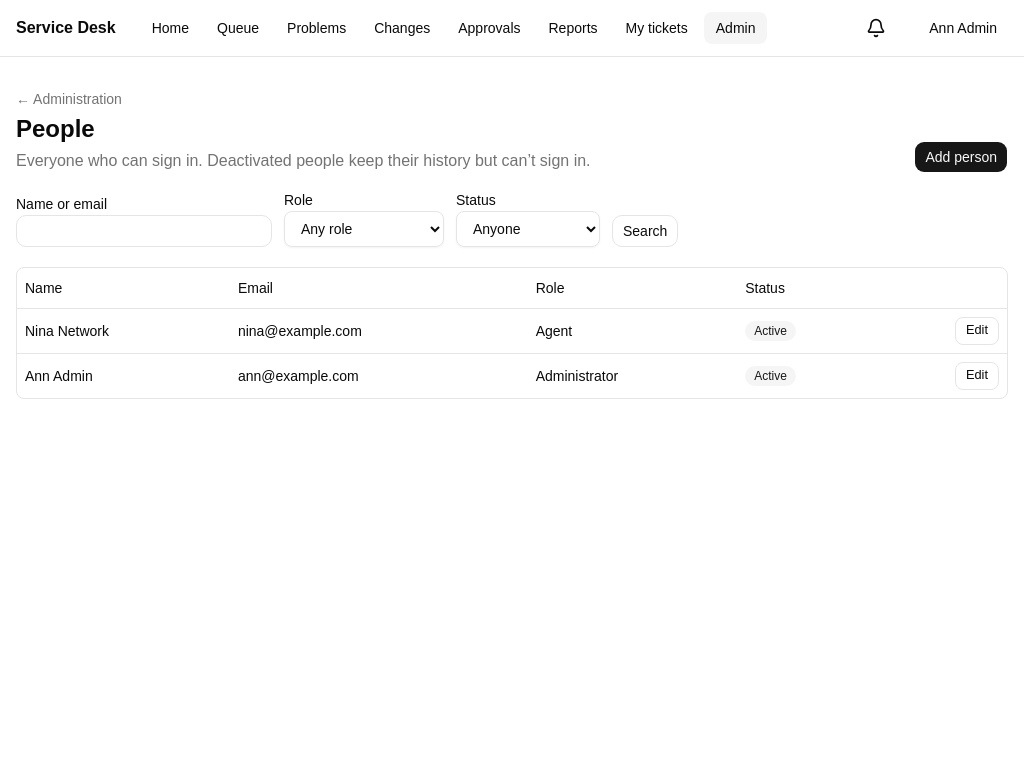
Test: people › changes a role with the current version and explains a refusal
Click the button with aria-label "Edit Nina Network". click: {"x": 977, "y": 330}
box: [955,316,999,344]
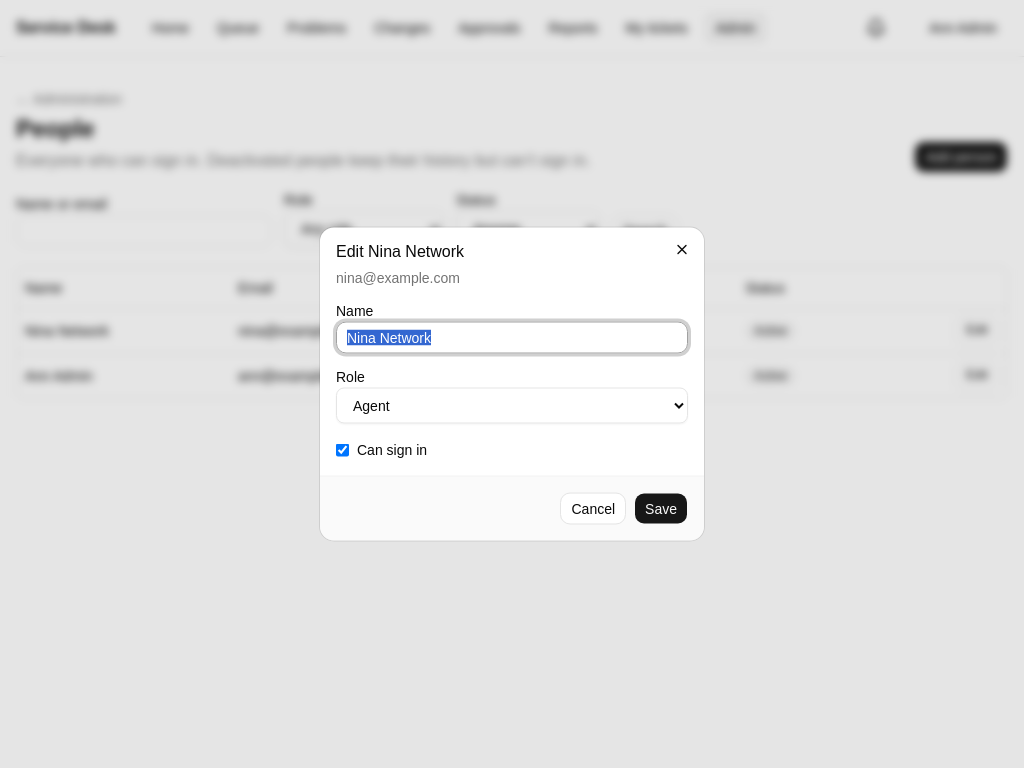
Select "Team lead" in the dropdown labelled "Role". click: {"x": 512, "y": 406}
box: [336,388,688,424]
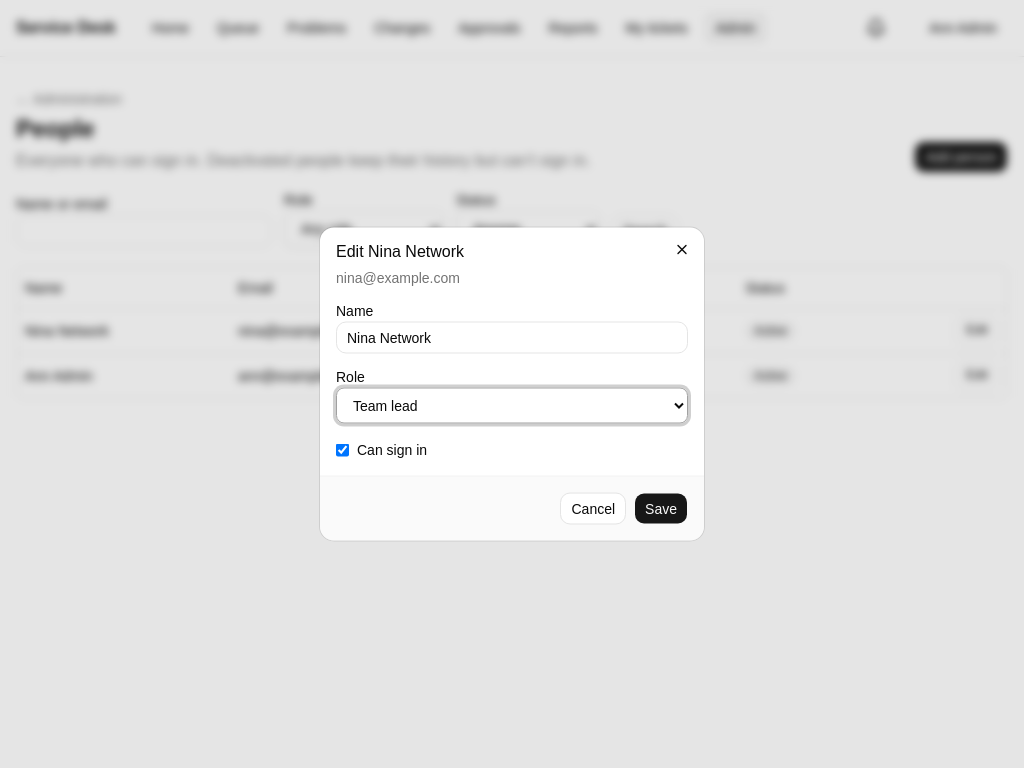
Click the button "Save". click: {"x": 661, "y": 508}
box: [634,492,688,524]
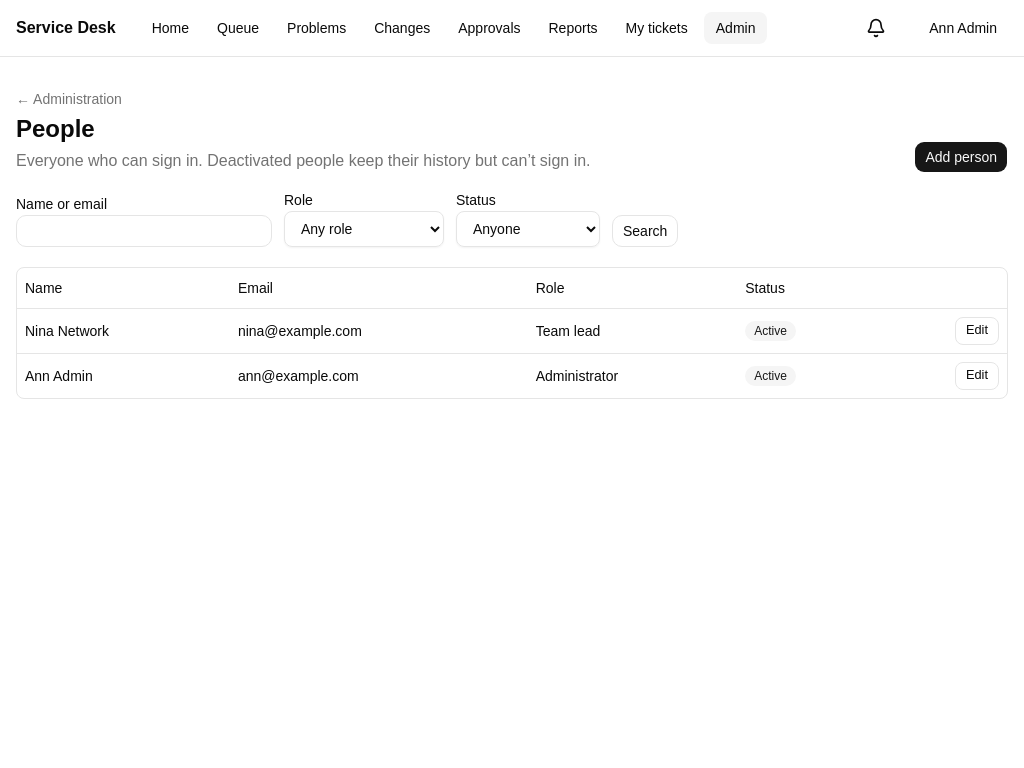
Check: the cell "Team lead" is shown, box [528,308,737,353]
Click the button with aria-label "Edit Ann Admin". click: {"x": 977, "y": 376}
box: [955,362,999,390]
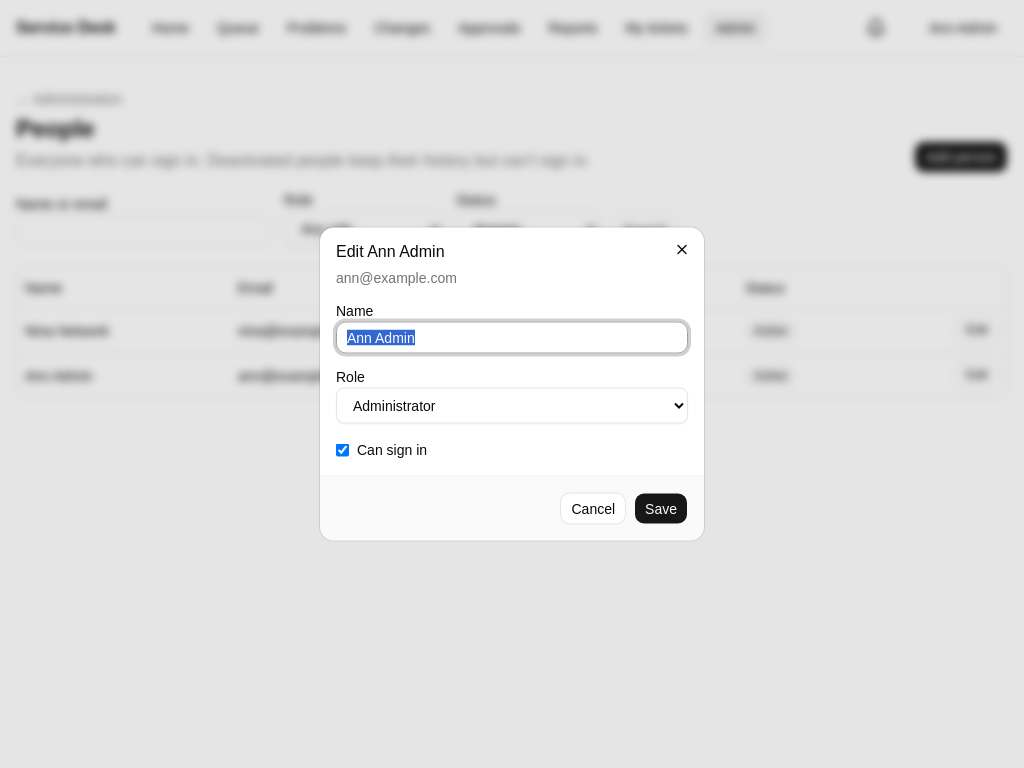
Select "Agent" in the dropdown labelled "Role". click: {"x": 512, "y": 406}
box: [336,388,688,424]
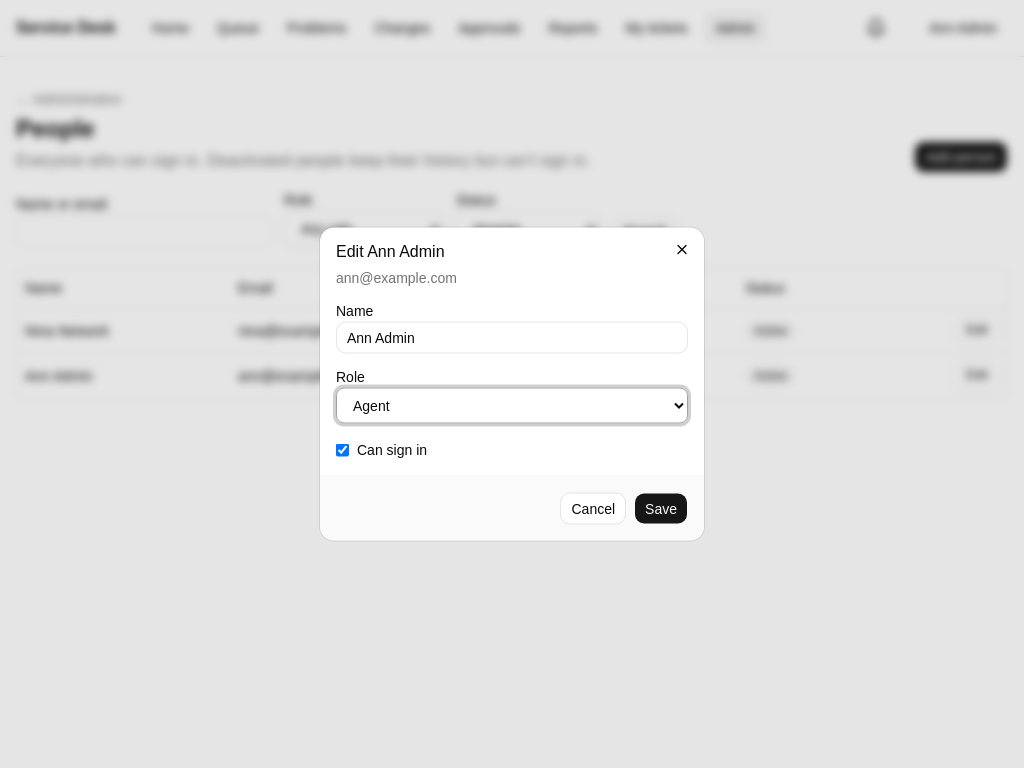
Click the button "Save". click: {"x": 661, "y": 508}
box: [634,492,688,524]
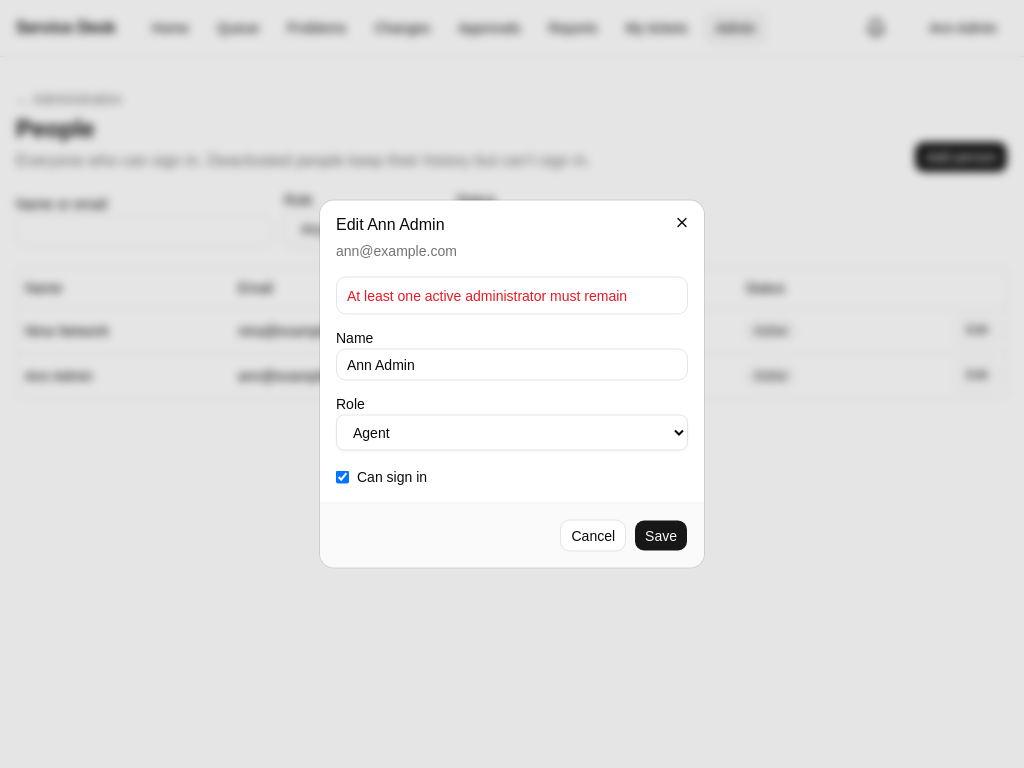
Check: the message reads "At least one active administrator must remain", box [347,288,627,304]
